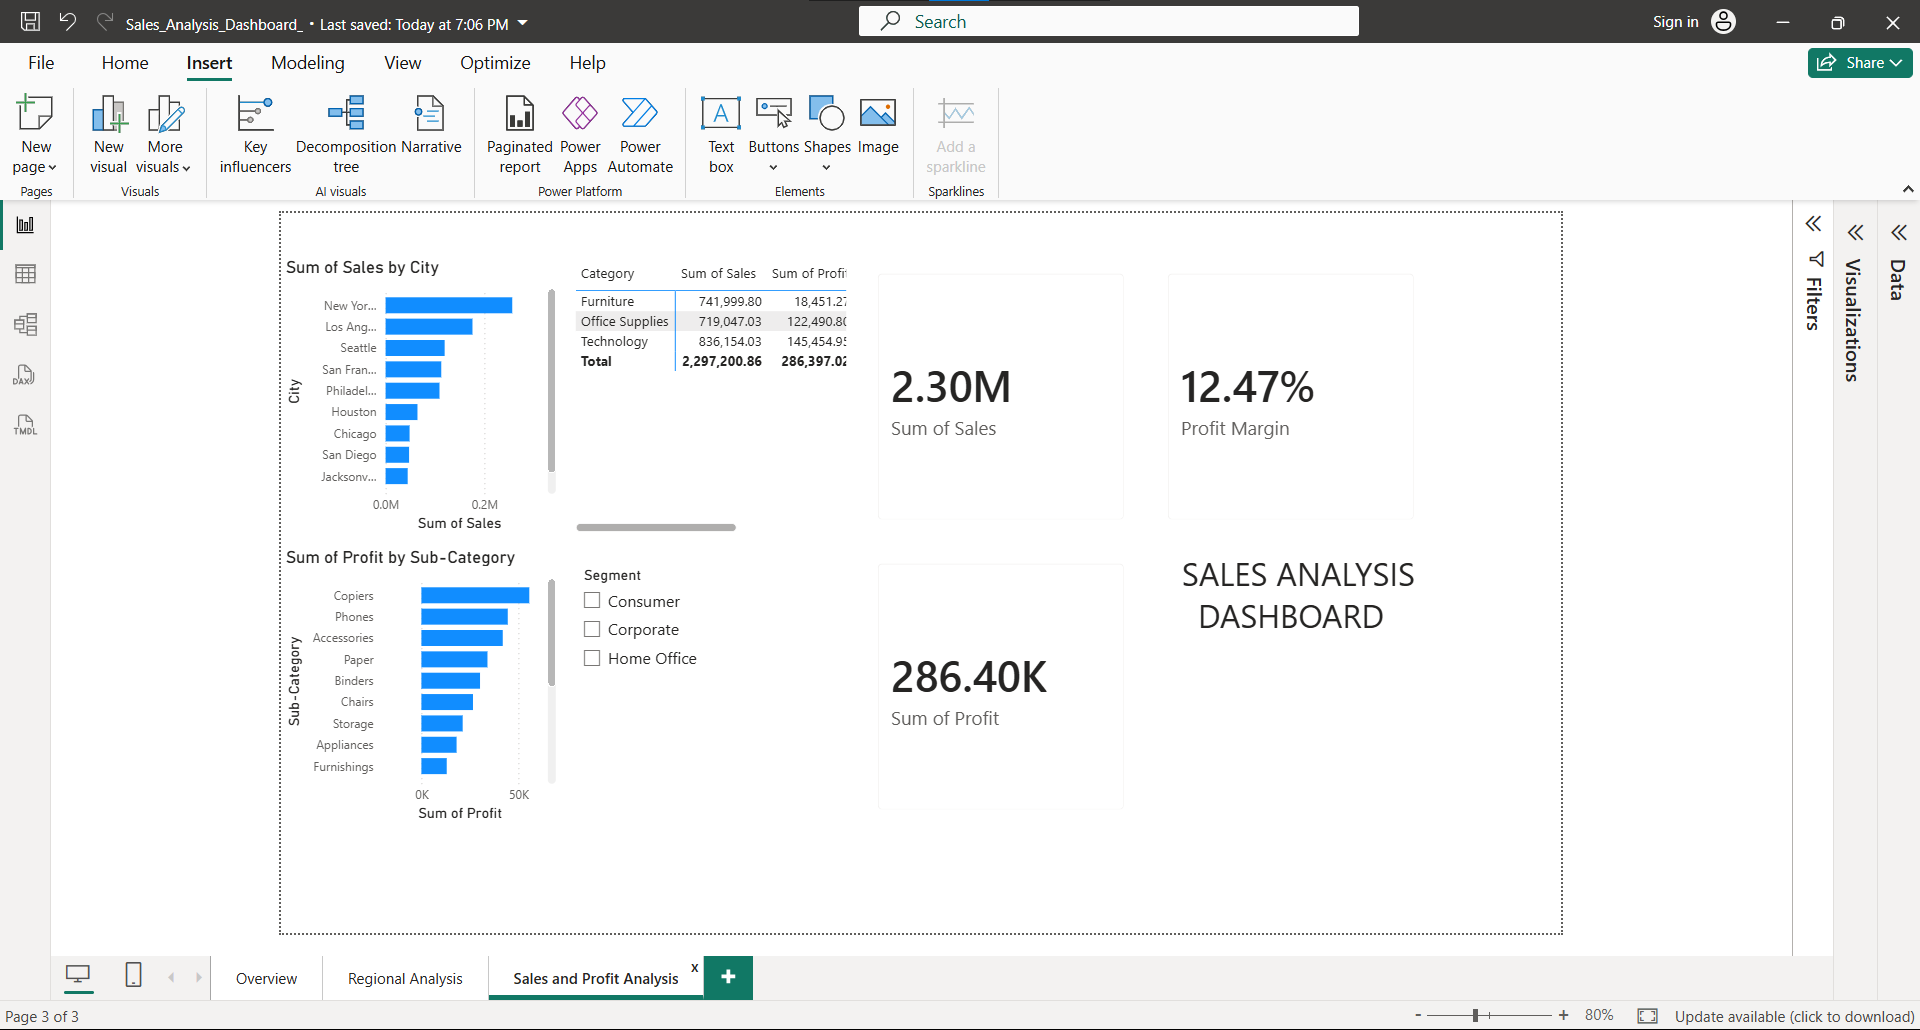

What the dashboard file says about the page in this screenshot:
{"tool":"powerbi","page":{"name":"Sales and Profit Analysis","canvas":[1280,720],"ordinal":2},"visuals":[{"type":"clusteredBarChart","fields":{"Category":["SampleSuperstore.City"],"Y":["Sum(SampleSuperstore.Sales)"]},"box":[0,43.8,280,280],"z":0},{"type":"clusteredBarChart","fields":{"Category":["SampleSuperstore.Sub-Category"],"Y":["Sum(SampleSuperstore.Profit)"]},"box":[0,334,280,280],"z":1},{"type":"pivotTable","fields":{"Rows":["SampleSuperstore.Category"],"Values":["Sum(SampleSuperstore.Sales)","Sum(SampleSuperstore.Profit)","Sum(SampleSuperstore.Quantity)"]},"box":[290,44,280,280],"z":2},{"type":"slicer","fields":{"Values":["SampleSuperstore.Segment"]},"box":[290,348.8,280,280],"z":3},{"type":"cardVisual","fields":{"Data":["Sum(SampleSuperstore.Sales)"]},"box":[580,44,280,280],"z":4},{"type":"cardVisual","fields":{"Data":["Sum(SampleSuperstore.Profit)"]},"box":[580,334,280,280],"z":5},{"type":"cardVisual","fields":{"Data":["SampleSuperstore.Profit Margin"]},"box":[870,44,280,280],"z":6},{"type":"textbox","box":[870,334,280,280],"z":7}]}

Visuals, with their boxes on the page's 1280x720 design canvas (x1, y1, x2, y2). These are canvas units, not pixel positions in the 1920x1030 screenshot, which may show the page scaled, cropped or inside an application window:
clusteredBarChart - SampleSuperstore.City x Sum(SampleSuperstore.Sales): region(0, 44, 280, 324)
clusteredBarChart - SampleSuperstore.Sub-Category x Sum(SampleSuperstore.Profit): region(0, 334, 280, 614)
pivotTable - SampleSuperstore.Category x Sum(SampleSuperstore.Sales): region(290, 44, 570, 324)
slicer - SampleSuperstore.Segment: region(290, 349, 570, 629)
cardVisual - Sum(SampleSuperstore.Sales): region(580, 44, 860, 324)
cardVisual - Sum(SampleSuperstore.Profit): region(580, 334, 860, 614)
cardVisual - SampleSuperstore.Profit Margin: region(870, 44, 1150, 324)
textbox: region(870, 334, 1150, 614)
